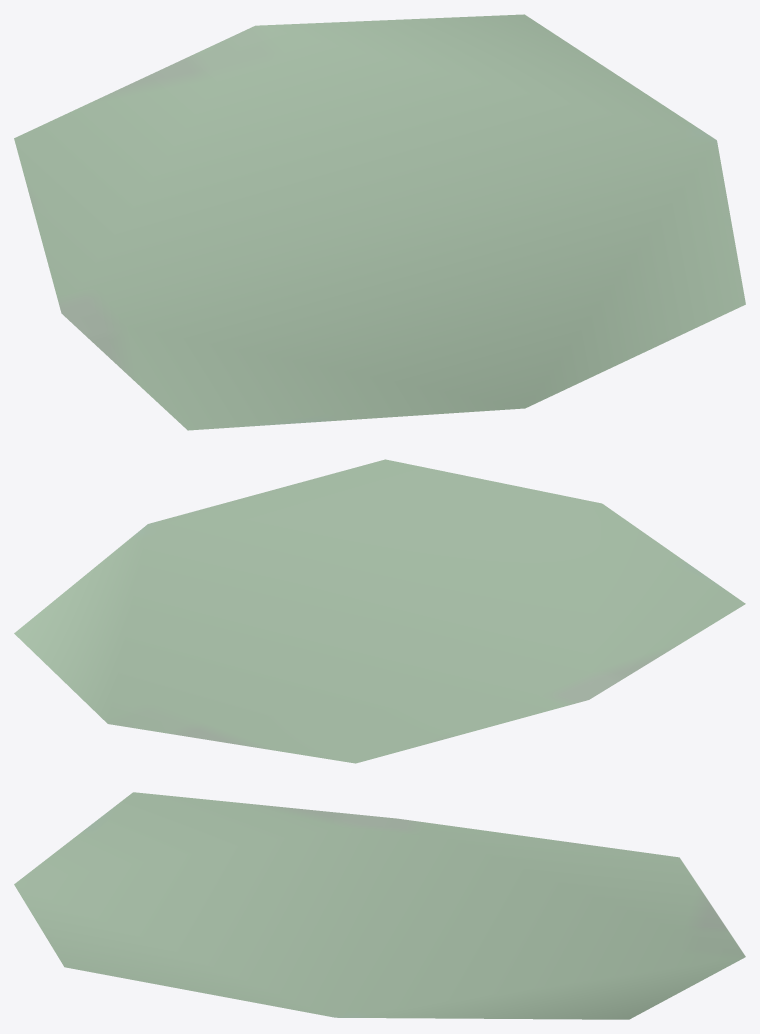
The model's file is TROLLHOLE02_HOLECAP138.fbx.
The picture shows the model from 3 angles, top to bottom: view 1: azimuth 30°, elevation 25°; view 2: azimuth 150°, elevation 25°; view 3: azimuth 270°, elevation 25°; orthographic projection. The views are drawn at different scales.
Visible parts, largest first — view 1: TROLLHOLE02_HOLECAP138; view 2: TROLLHOLE02_HOLECAP138; view 3: TROLLHOLE02_HOLECAP138.
Part boxes in pixels (left/top/right/bottom): TROLLHOLE02_HOLECAP138: left=14, top=14, right=745, bottom=430; TROLLHOLE02_HOLECAP138: left=14, top=459, right=745, bottom=763; TROLLHOLE02_HOLECAP138: left=14, top=792, right=745, bottom=1019.
Size of the model in its own units: 20855 by 1558 by 25255.
Materials: 1 (1 with a texture image).
